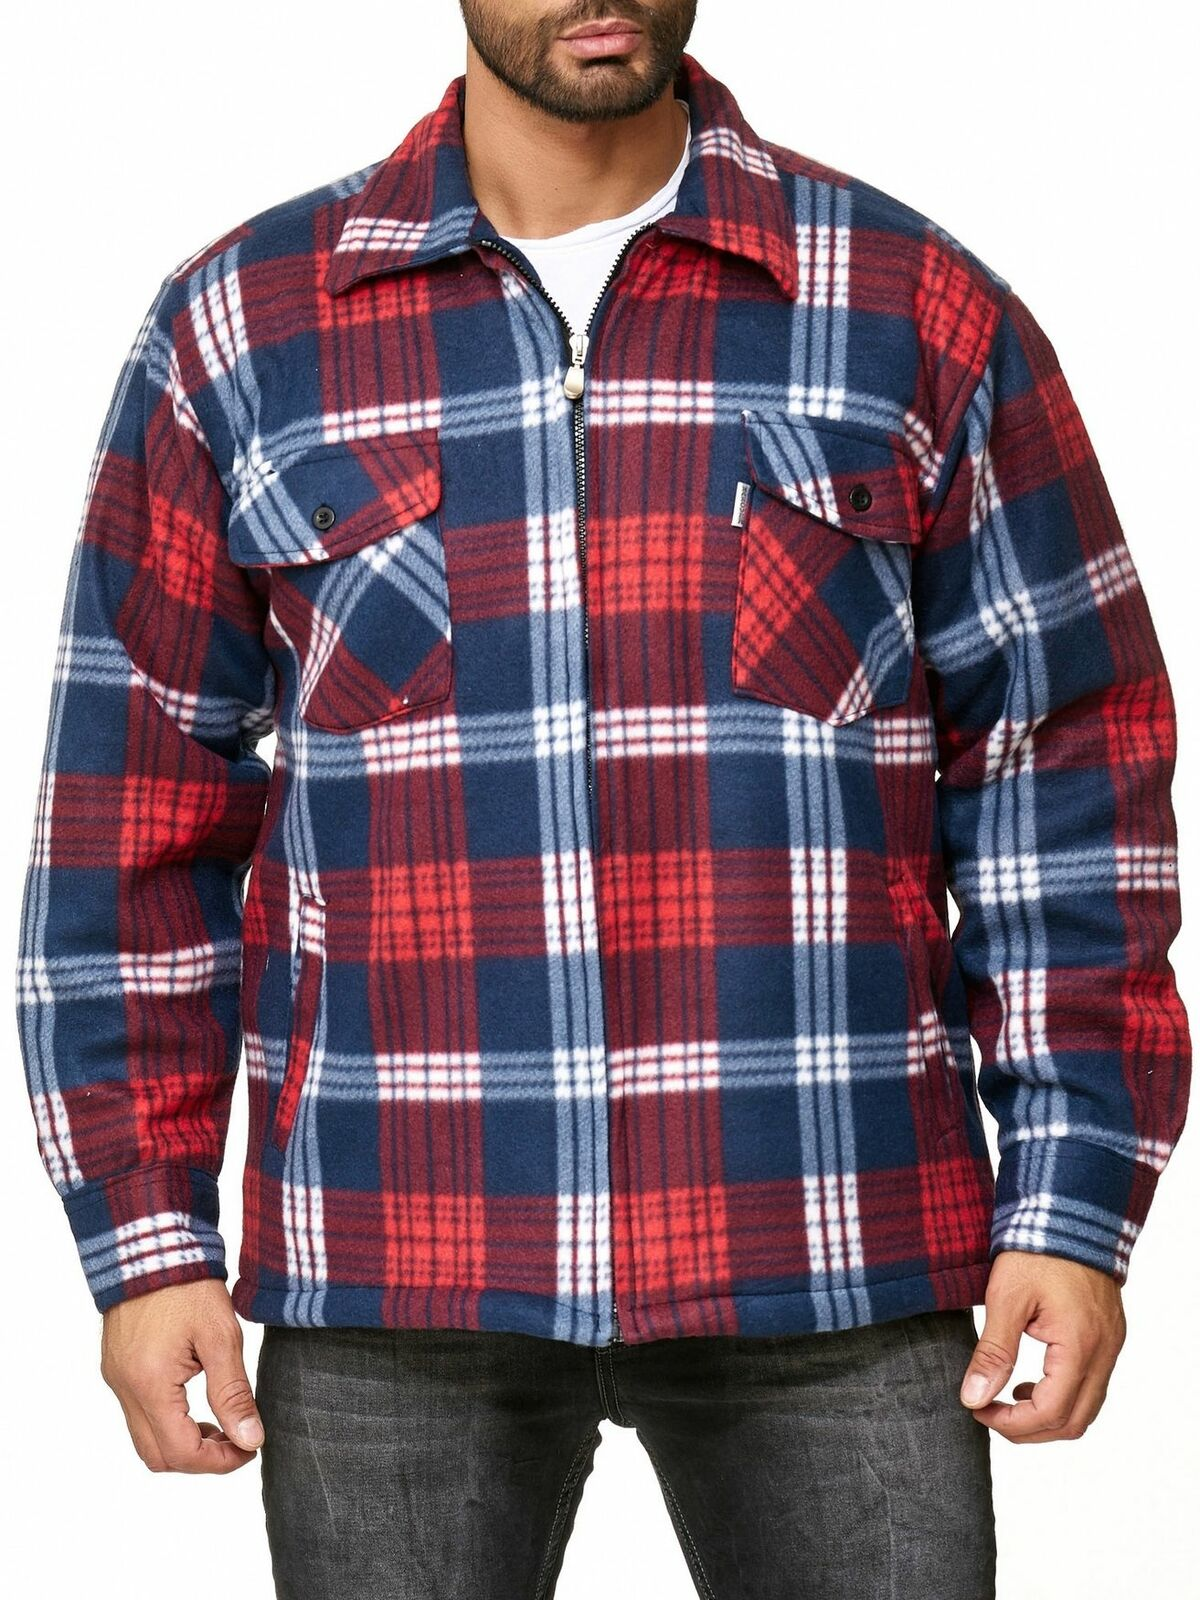squared: (3, 50, 1200, 1359)
